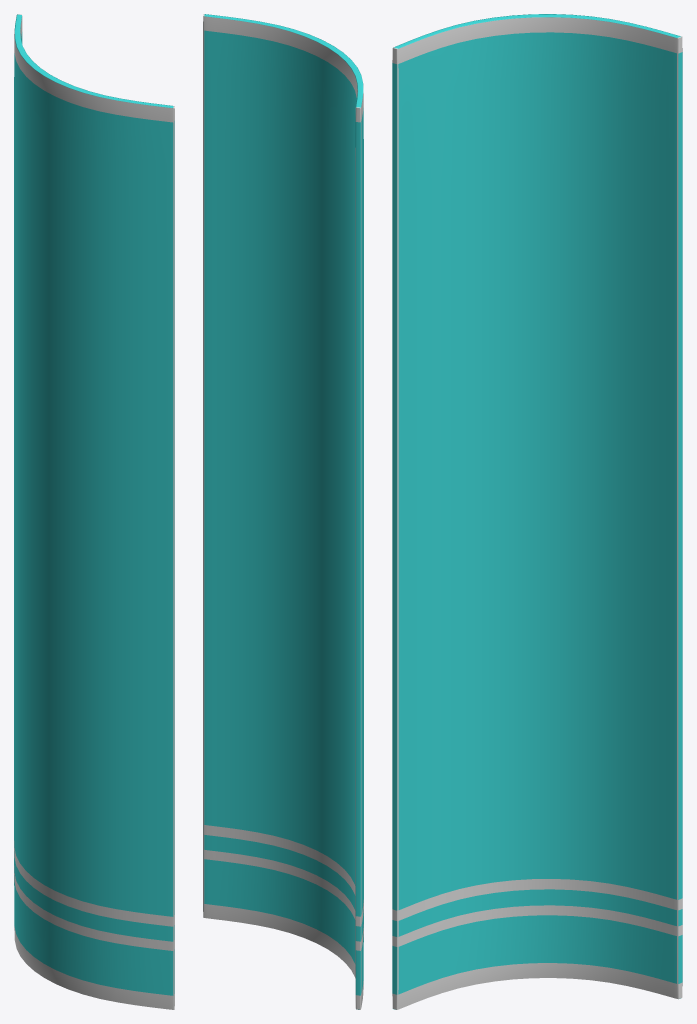
Rendered from PuertaD.glb.
3 renders of one model, left to right at view 1: azimuth 30°, elevation 25°; view 2: azimuth 210°, elevation 25°; view 3: azimuth 270°, elevation 25°, orthographic. The views are drawn at different scales.
Visible parts, largest first — view 1: D_ascensor_puerta2; view 2: D_ascensor_puerta2; view 3: D_ascensor_puerta2.
Part boxes in pixels (x1,y1,x2,y2): D_ascensor_puerta2: [14, 14, 174, 1009]; D_ascensor_puerta2: [203, 14, 363, 1009]; D_ascensor_puerta2: [392, 14, 682, 1009].
Bounding box in the file's own units: 0.0153 × 0.1925 × 0.0527.
